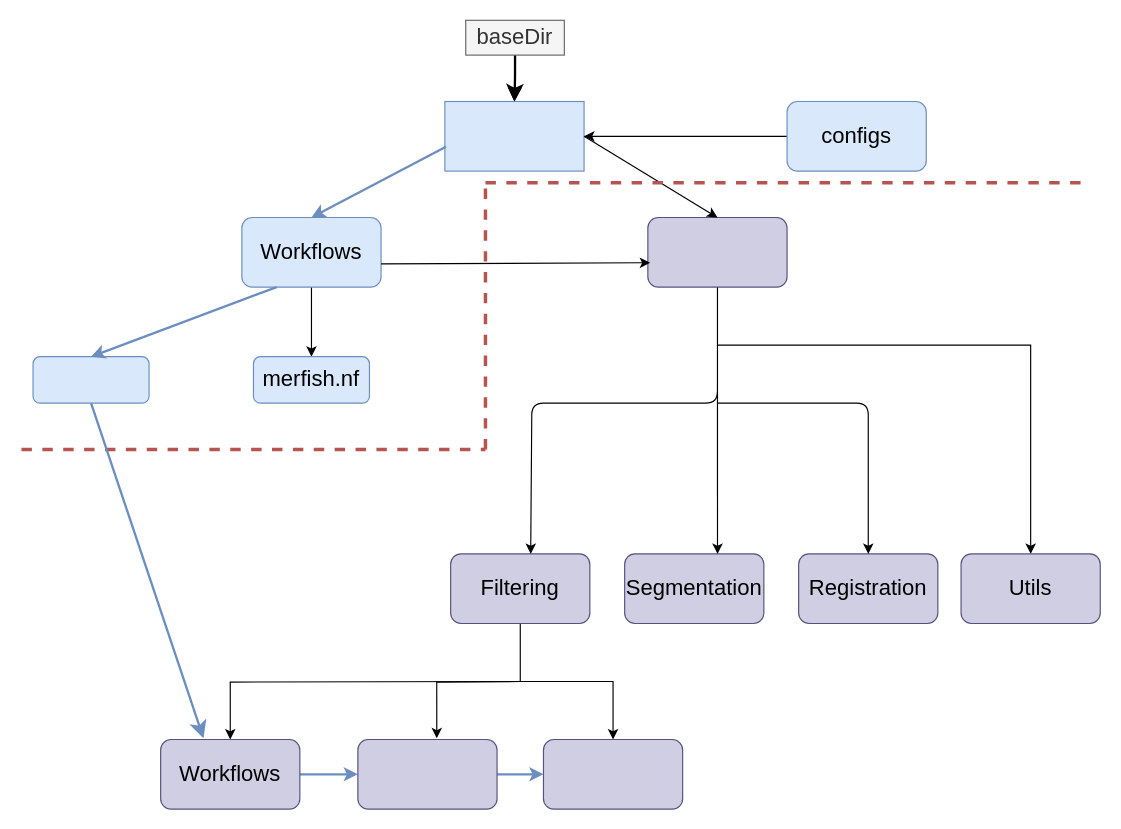
Some shapes in this 1121 by 829 pixel diagram are drawn without their labels. Each missing label, with the centre of its shape:
Binaries: the point at 612,773
iss.nf: the point at 90,379
Main.nf: the point at 514,135
Processes: the point at 427,773
src: the point at 717,251
